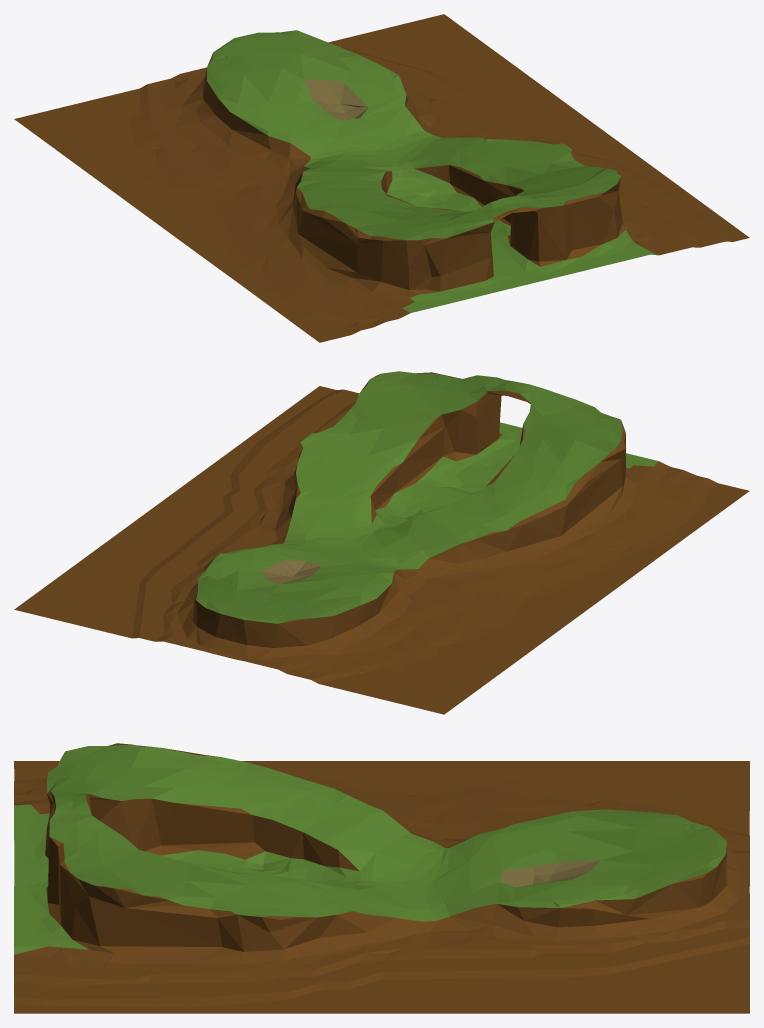
Rendered from BIOMA1.fbx.
3 renders of one model, top to bottom at view 1: azimuth 30°, elevation 25°; view 2: azimuth 150°, elevation 25°; view 3: azimuth 270°, elevation 25°, orthographic. The views are drawn at different scales.
Visible parts, largest first — view 1: Zone1; view 2: Zone1; view 3: Zone1.
Boxes of the visible parts, x1,y1,x2,y2 form: Zone1: (14, 14, 749, 342); Zone1: (14, 371, 749, 714); Zone1: (14, 743, 749, 1013).
Bounding box in the file's own units: 24138 × 3773 × 29713.
